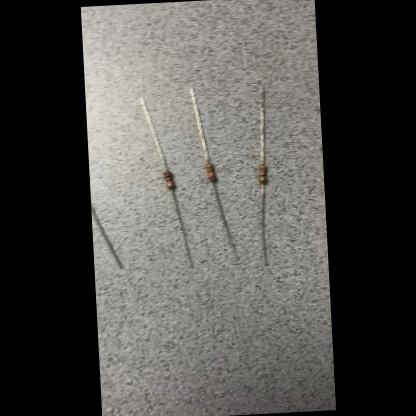resistor: (206, 162, 216, 181), (164, 170, 174, 188), (258, 163, 266, 183)
wire: (139, 95, 168, 170), (91, 202, 122, 270), (212, 182, 238, 260), (170, 188, 192, 268), (189, 86, 210, 164), (257, 86, 268, 162), (260, 184, 268, 266)
